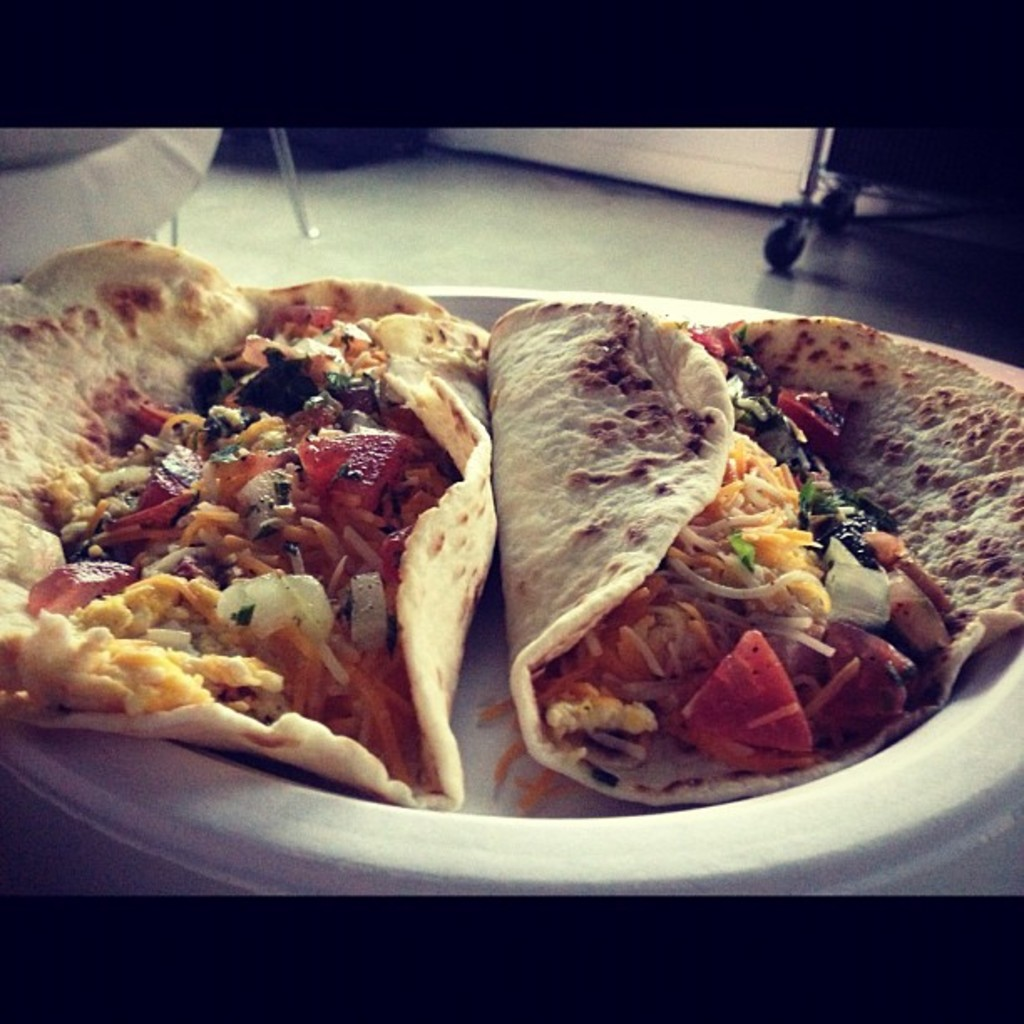taco: (15, 261, 547, 806), (487, 294, 1022, 806)
